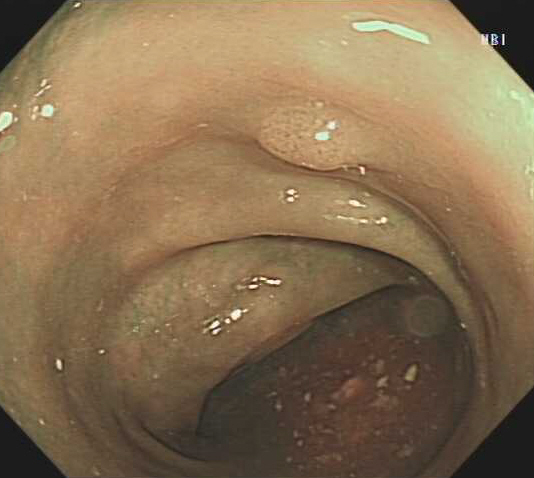adenoma: (252, 96, 397, 173)
